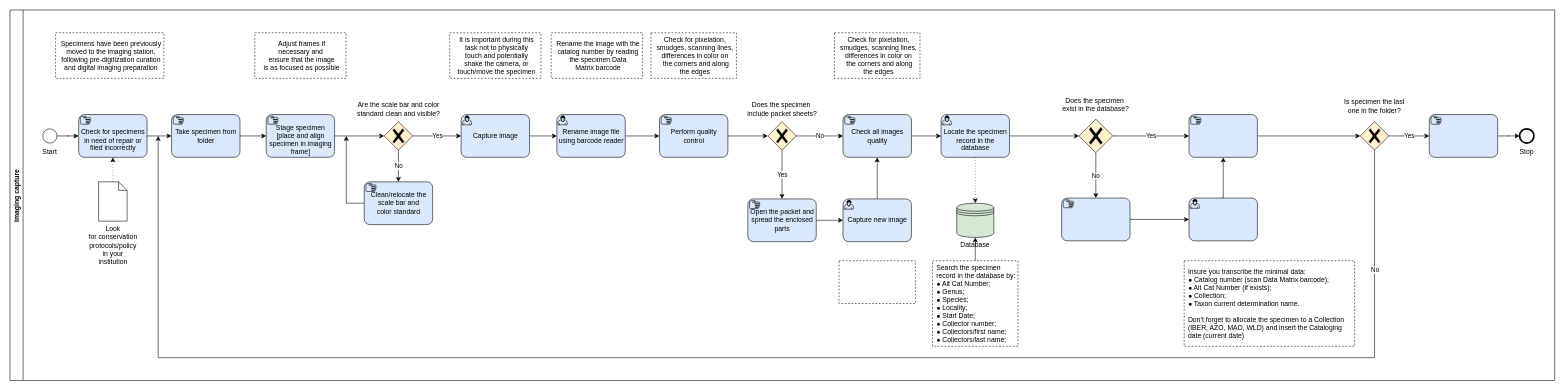
The diagram is 1565 pixels wide and 390 high, and some of its shapes have lost their labels. Here are the shapes that lost their labels. From the top down, the centre of each, then its label:
At (1222,135): "Check for damage to specimen that might occur during imaging".
At (1463,135): "Return specimen to the collection/folder and then herbarium".
At (1095,219): "Create a new record".
At (1222,219): "Transcribe the specimen information".
At (876,282): "New image filename follows the pattern LISIXXXXXX_caps.tif".
